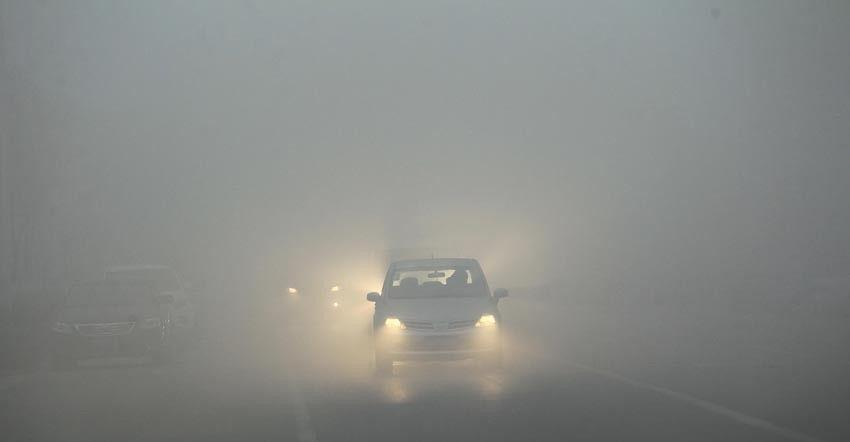car: (365, 254, 512, 378), (45, 275, 175, 368), (97, 263, 197, 343)
